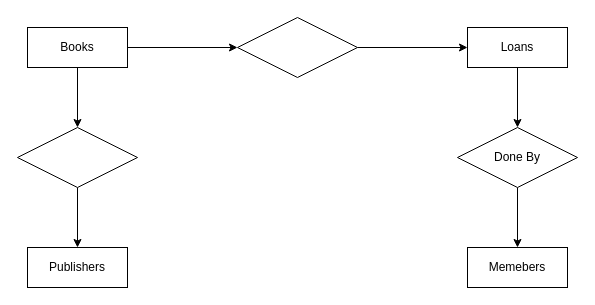
The diagram is 595 pixels wide and 305 high, and some of its shapes have lost their labels. The shapes that lost their labels are listed below. From the top down, each one's centre as x and y in pixels, then its label:
At point (297, 47): "Included".
At point (77, 157): "Published by".
